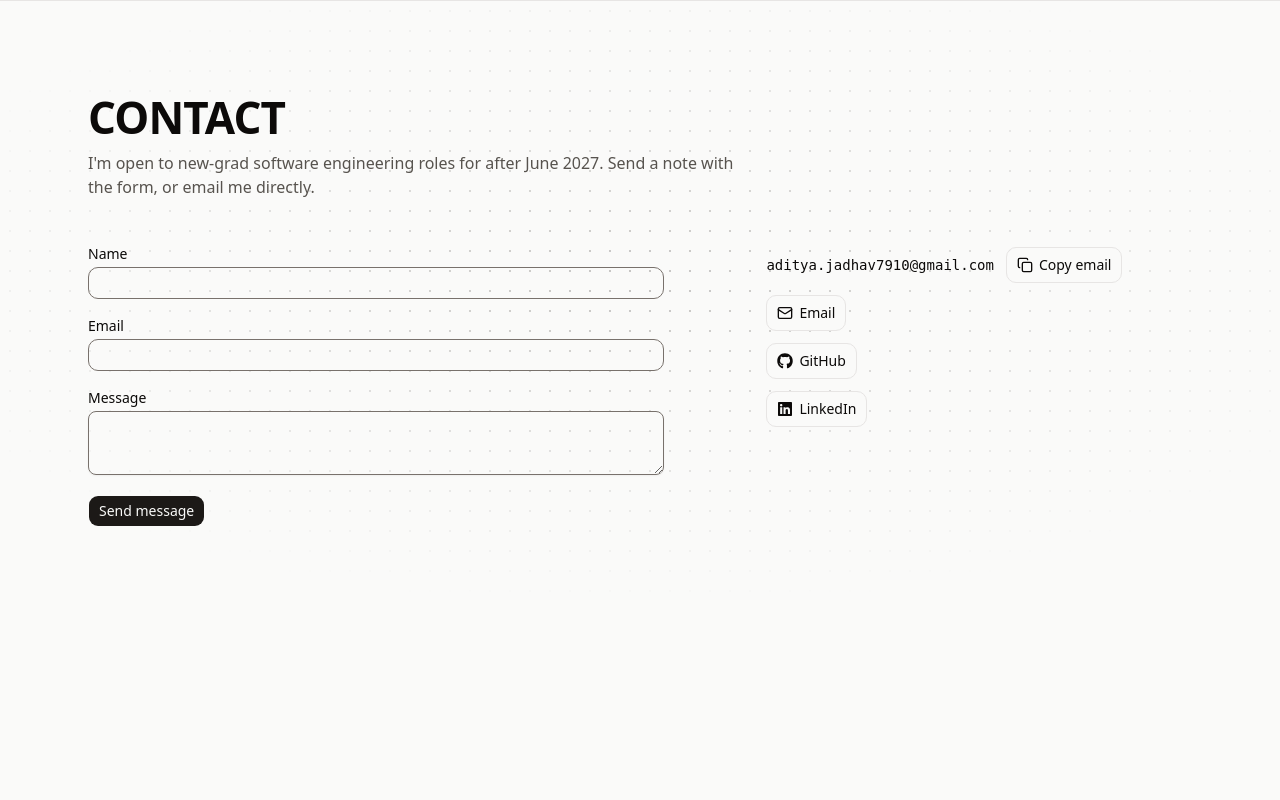
Scenario: Contact › announces failure as an alert and keeps the entered values
The width and height of the screenshot is (1280, 800).
Type "Test Person" into the field labelled "Name" at (376, 283), box [88,267,664,299]
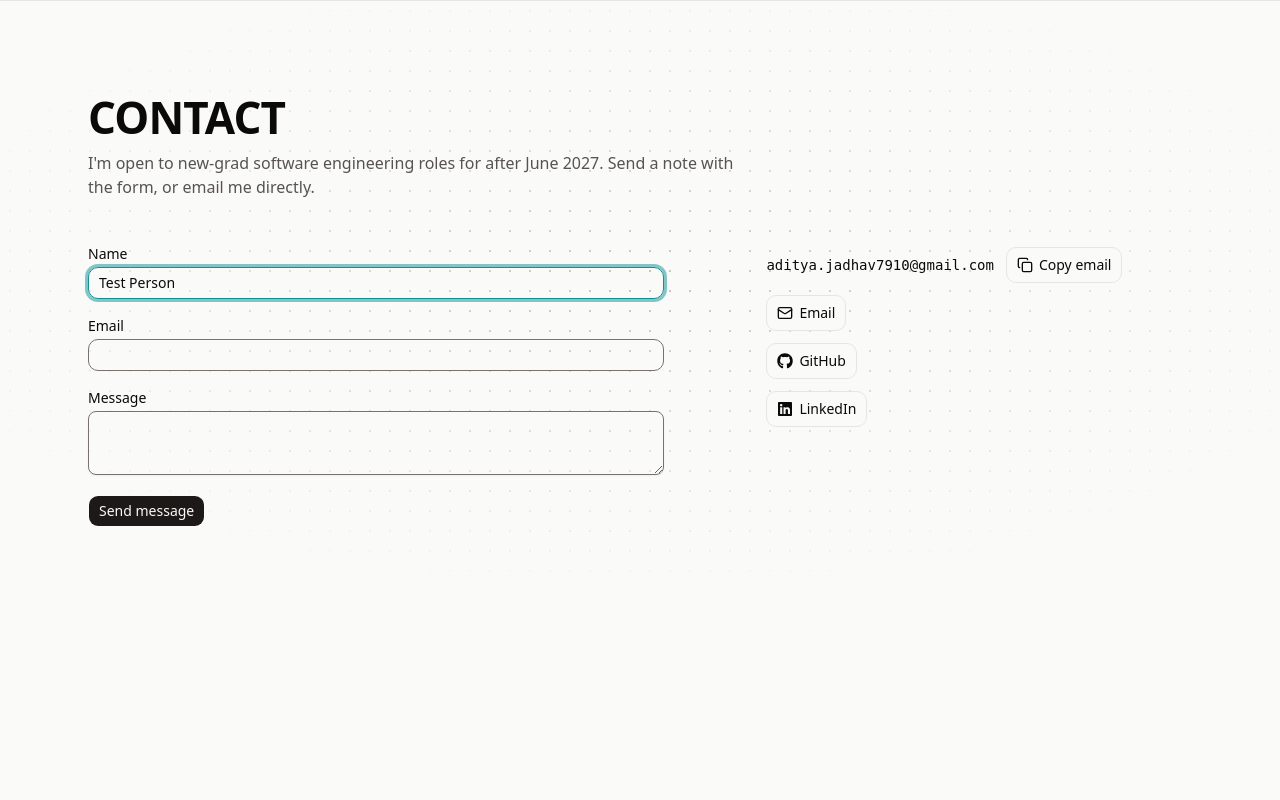
Type "test@example.com" into the field labelled "Email" at (376, 355), box [88,339,664,371]
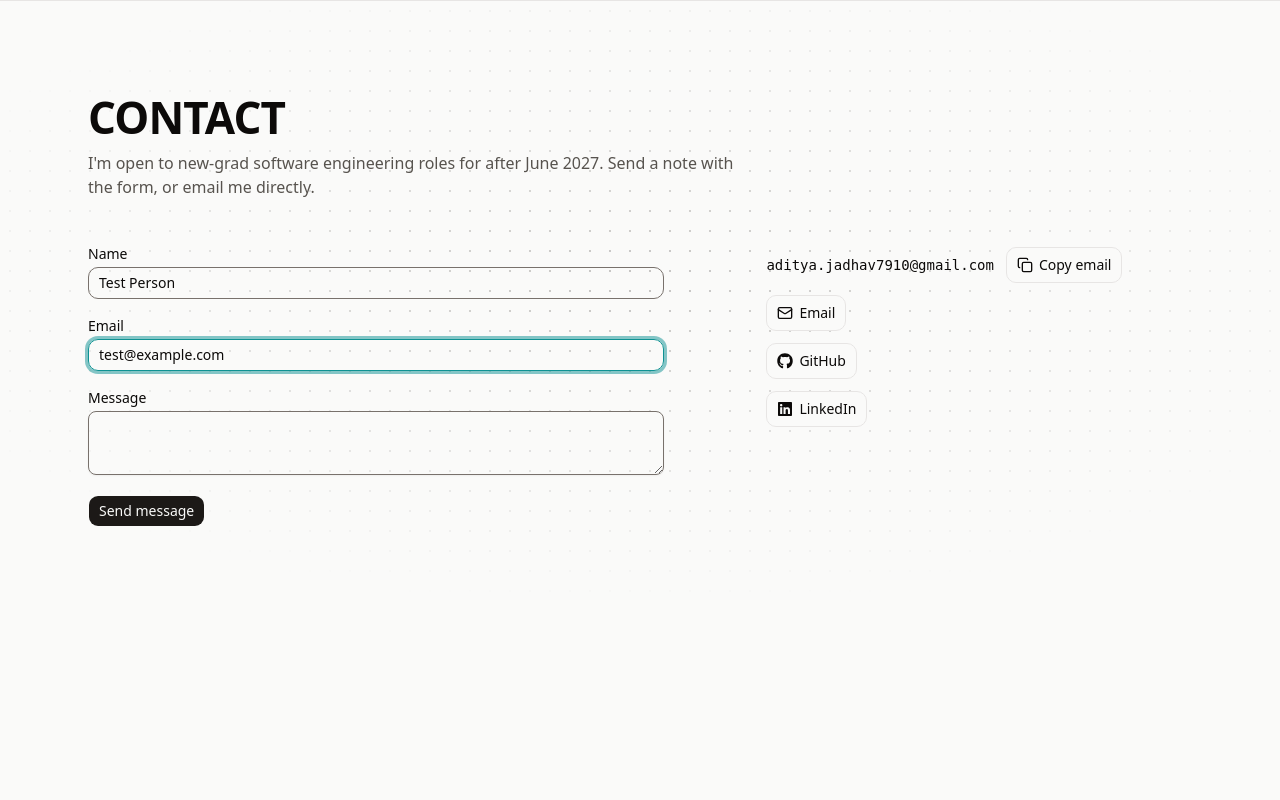
Type "Hello there" into the text box labelled "Message" at (376, 443), box [88,411,664,475]
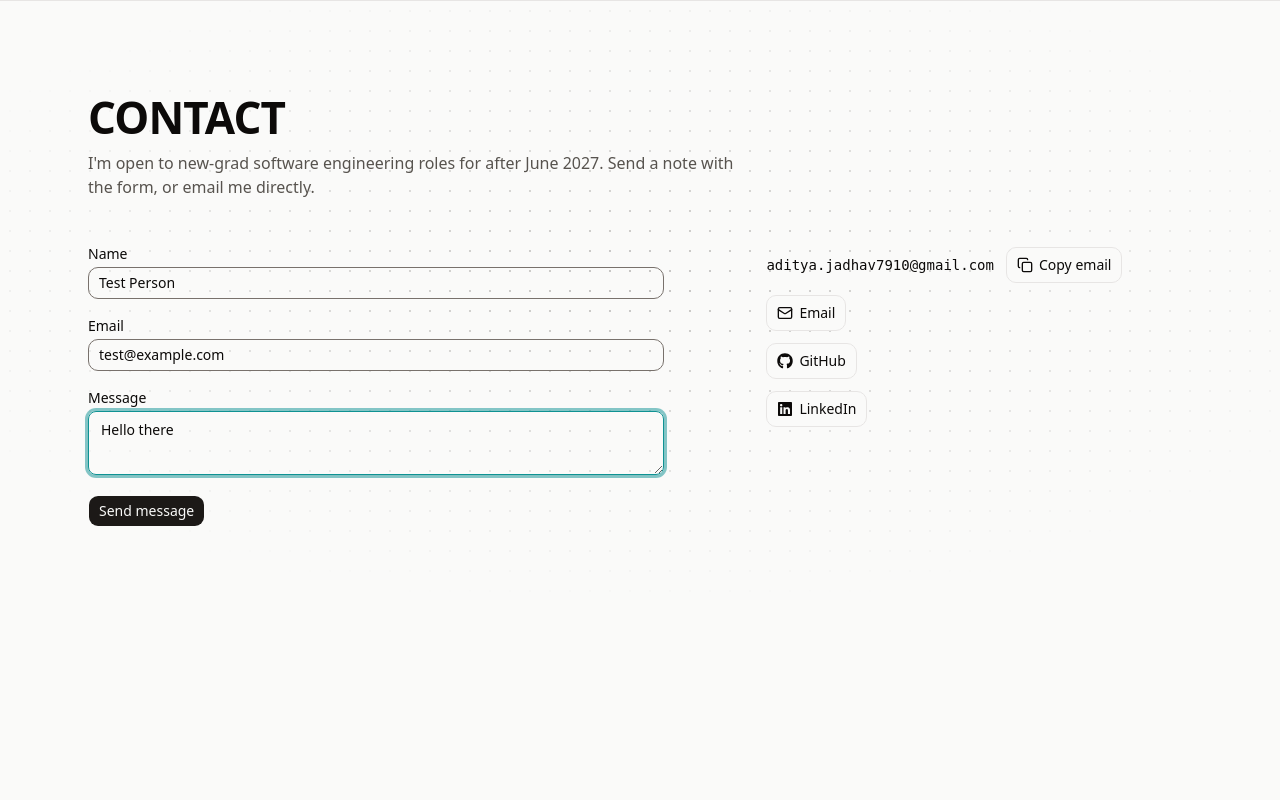
Click the button "Send message" at (147, 511), box [88,495,205,527]
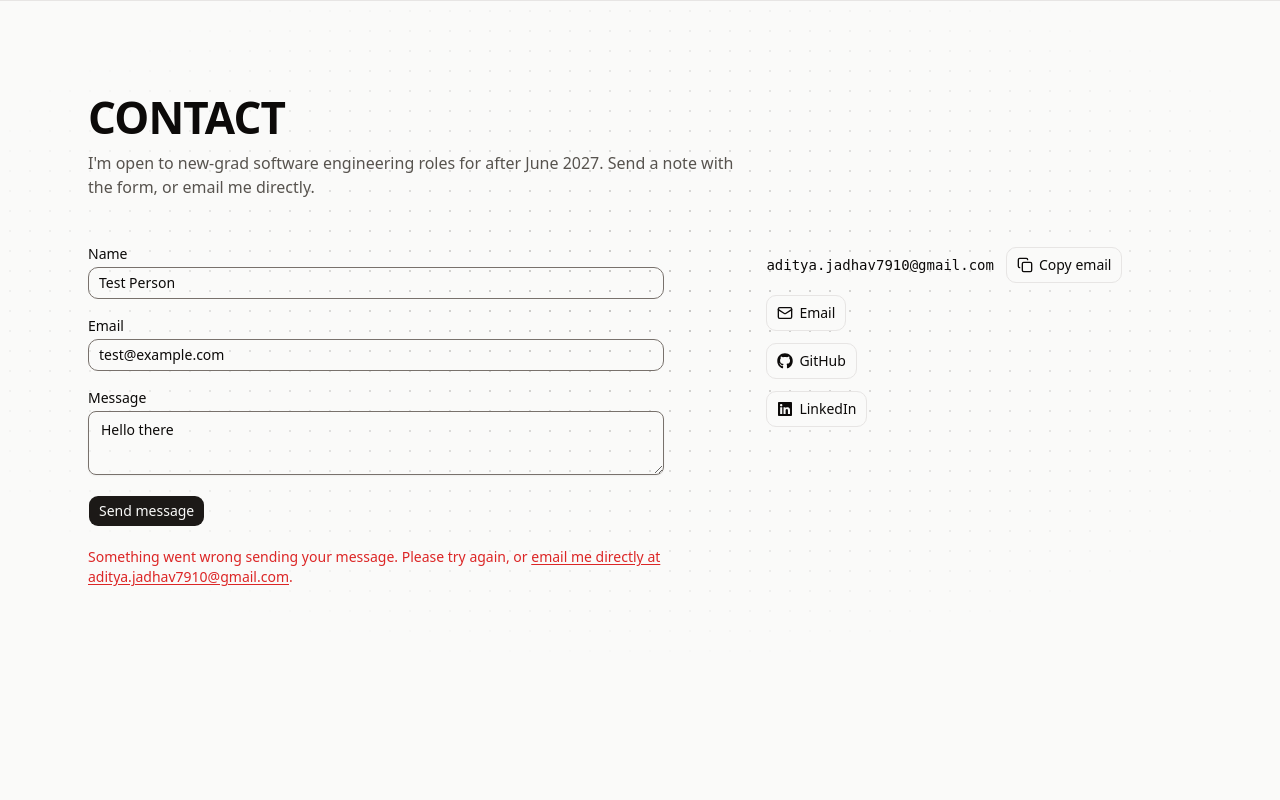
Result: the message is shown at [88,547,664,587]
